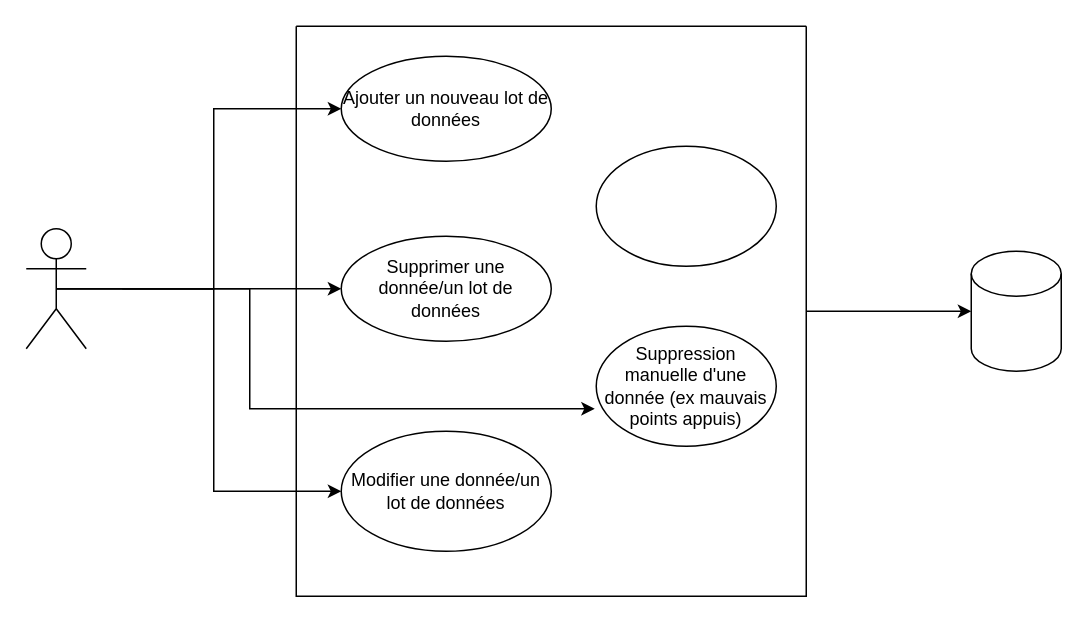
This 1088x623 diagram has some shape labels left out. The centre of each missing label's shape, as x and y in pixels:
"Admin" goes at point 55,288.
"Suppression automatique d'une donnée (ex max 10 géorefs)" goes at point 685,205.
